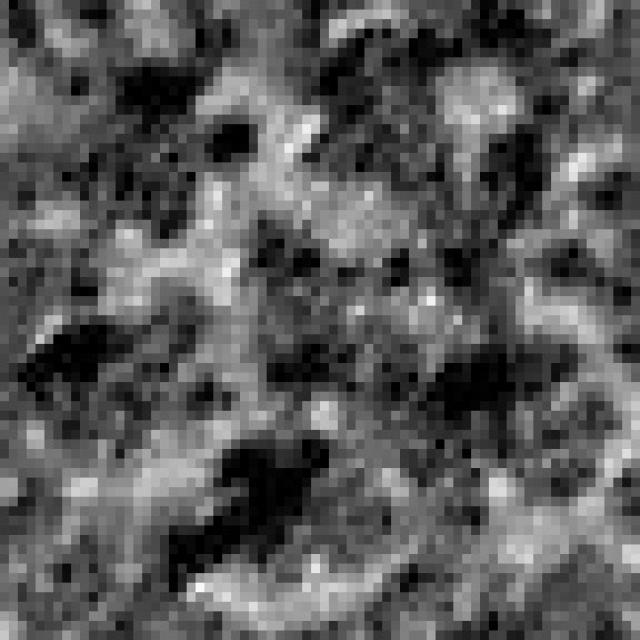inner: (231, 220, 427, 430)
lobe: (305, 3, 572, 272), (394, 325, 625, 538), (18, 277, 241, 470), (163, 428, 403, 607), (61, 60, 265, 247)
outer: (0, 0, 640, 640)
